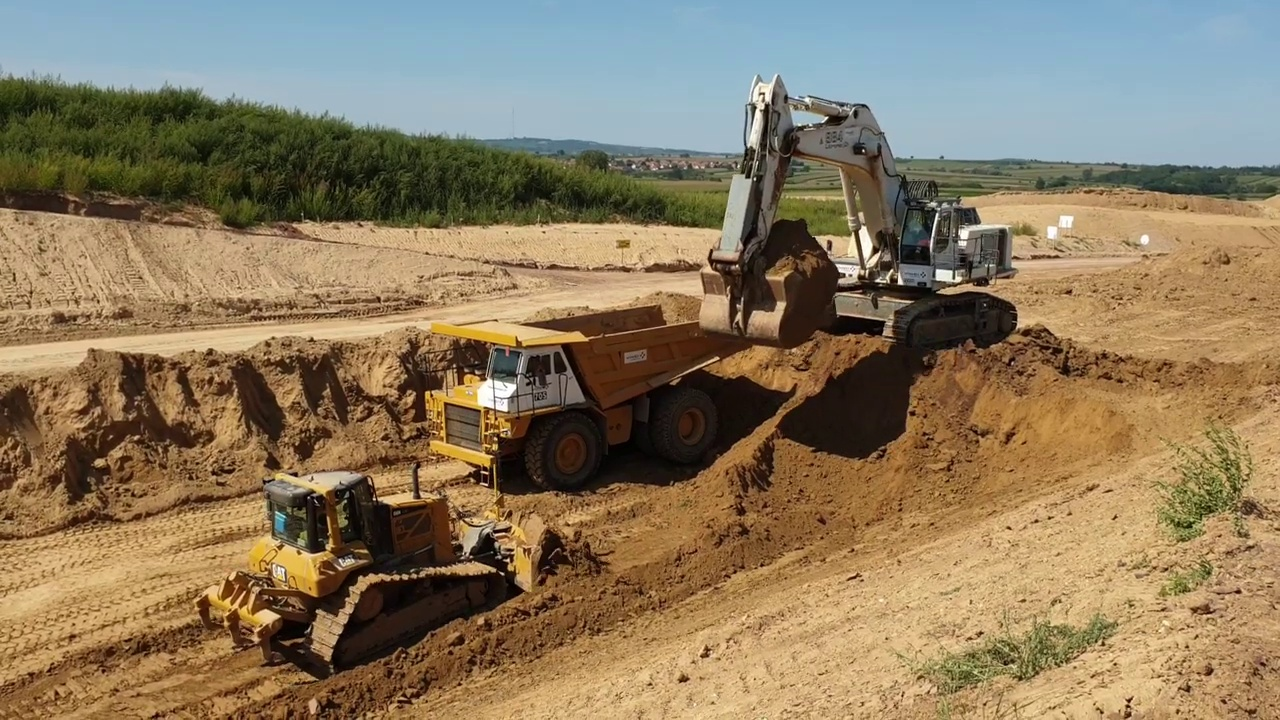bulldozer: (194, 444, 561, 674)
excavator: (695, 67, 1025, 361)
truck: (408, 300, 760, 498)
